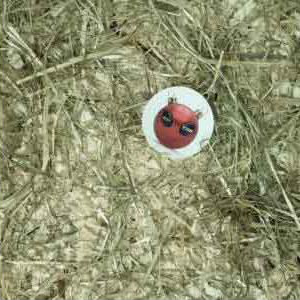badge: (140, 85, 215, 162)
